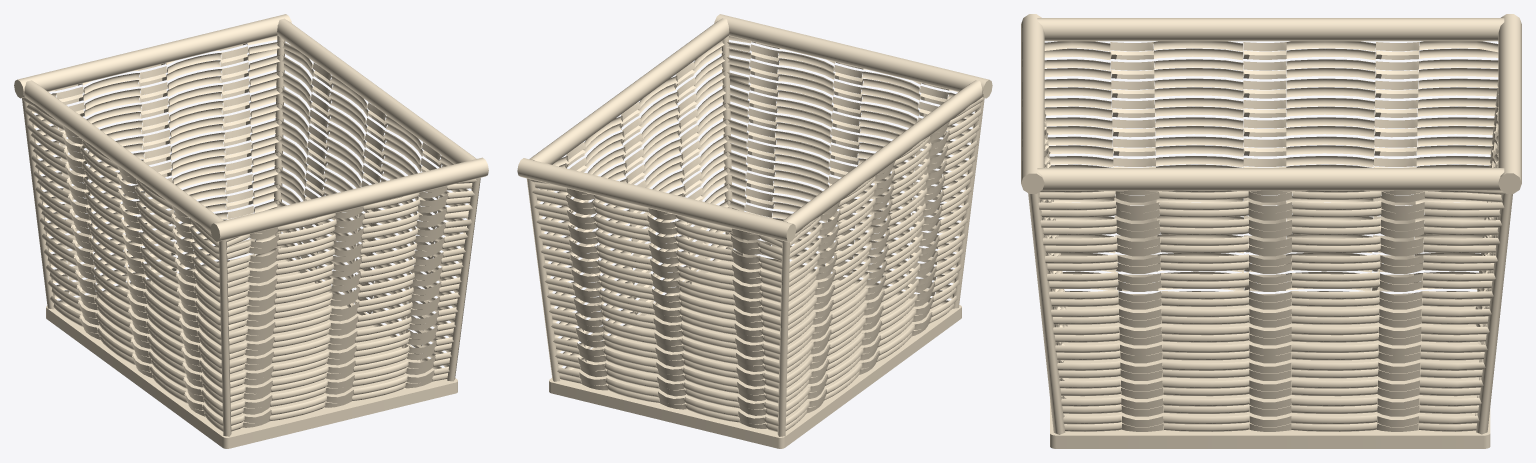
The model's file is testBasket.fbx.
The picture shows the model from 3 angles, left to right: view 1: azimuth 30°, elevation 25°; view 2: azimuth 150°, elevation 25°; view 3: azimuth 270°, elevation 25°; orthographic projection. The views are drawn at different scales.
Visible parts, largest first — view 1: Cilindro17; view 2: Cilindro17; view 3: Cilindro17.
Boxes of the visible parts, <box> form: Cilindro17: <box>14,14,488,448</box>; Cilindro17: <box>517,14,992,448</box>; Cilindro17: <box>1021,14,1521,448</box>.
Bounding box in the file's own units: 25.54 × 21.31 × 33.88.
